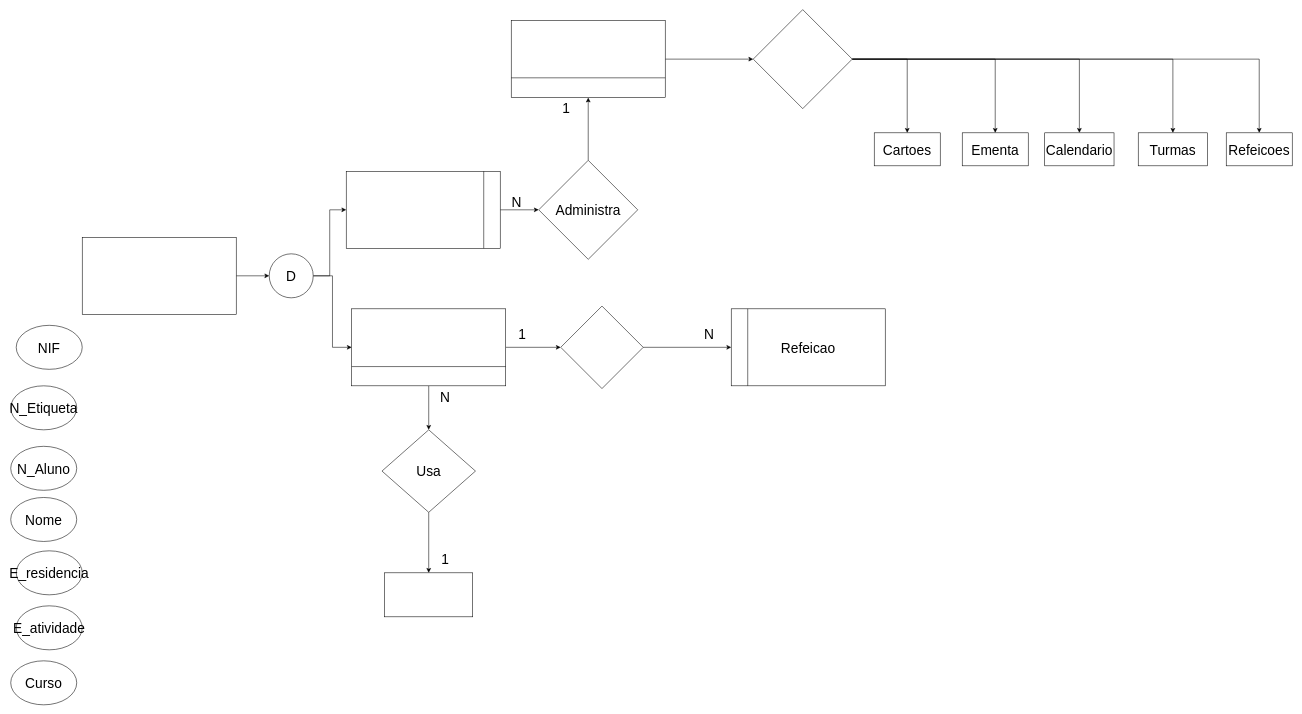
The diagram is 1302 pixels wide and 714 high, and some of its shapes have lost their labels. Each missing label, with the box of its shape:
ADMIN: (346, 171, 500, 248)
BASE_DADOS: (511, 20, 665, 98)
Cartao: (384, 572, 473, 617)
Formando: (351, 308, 506, 386)
Guarda: (753, 9, 852, 109)
Pessoa: (82, 237, 236, 314)
Regista: (560, 306, 643, 389)
